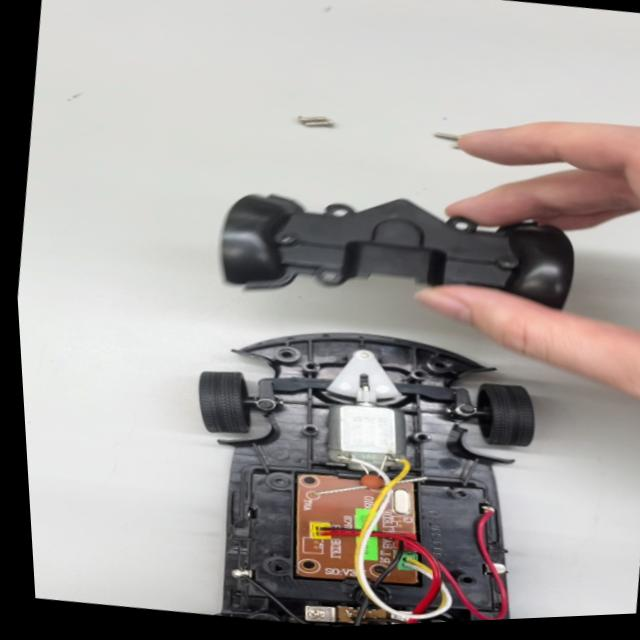motor: (311, 371, 429, 476)
motor_cover: (193, 160, 602, 343)
